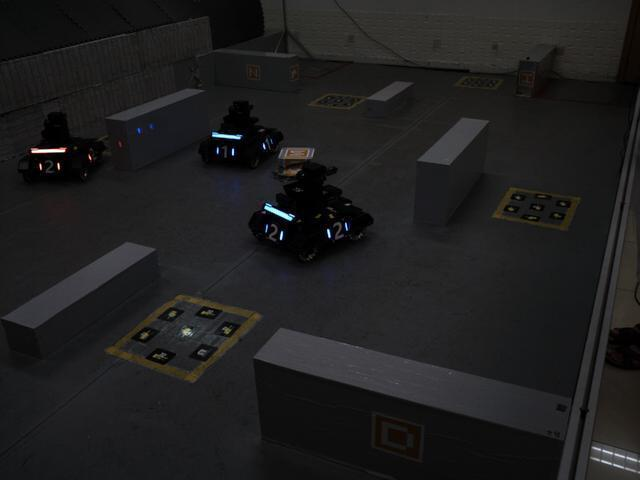armor: (324, 216, 353, 245), (261, 219, 284, 247), (212, 142, 239, 163), (35, 156, 63, 175), (258, 134, 276, 156), (84, 143, 99, 168)
